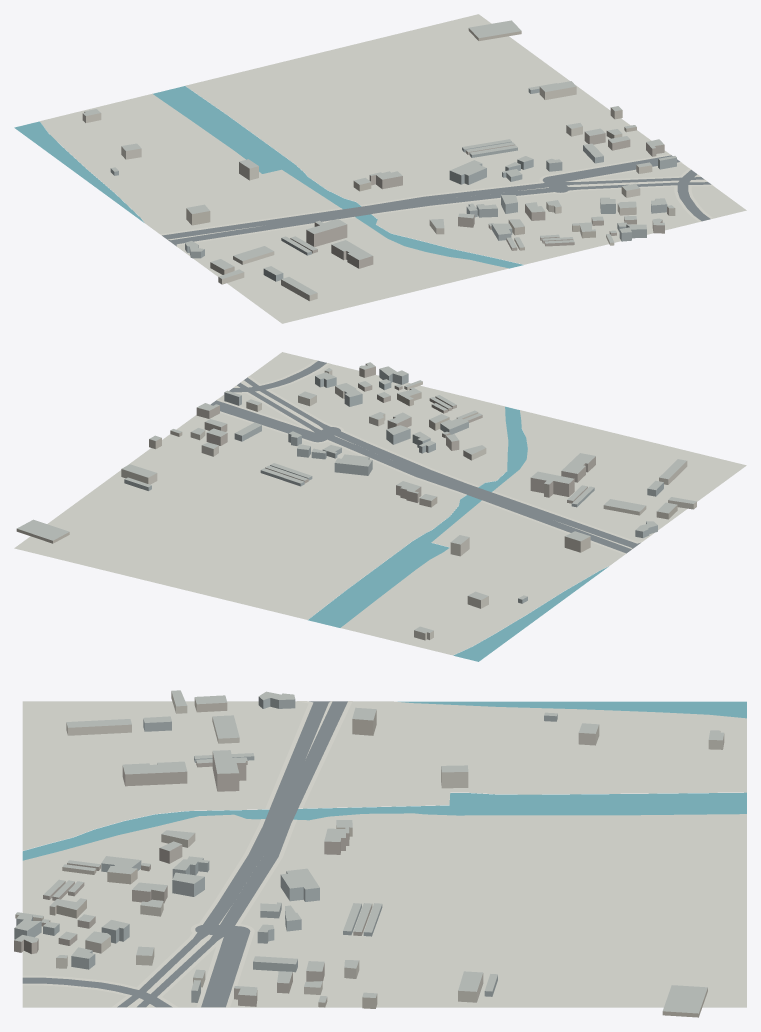
3 views of the same model, one above another, from view 1: azimuth 30°, elevation 25°; view 2: azimuth 150°, elevation 25°; view 3: azimuth 270°, elevation 25° (orthographic). The views are drawn at different scales.
Parts seen in each view (by area): view 1: city; view 2: city; view 3: city.
Part boxes in pixels (<box>): city: <box>14,14,746,323</box>; city: <box>14,352,746,661</box>; city: <box>14,690,746,1017</box>.
Size of the model in its own units: 522 by 13.78 by 506.
